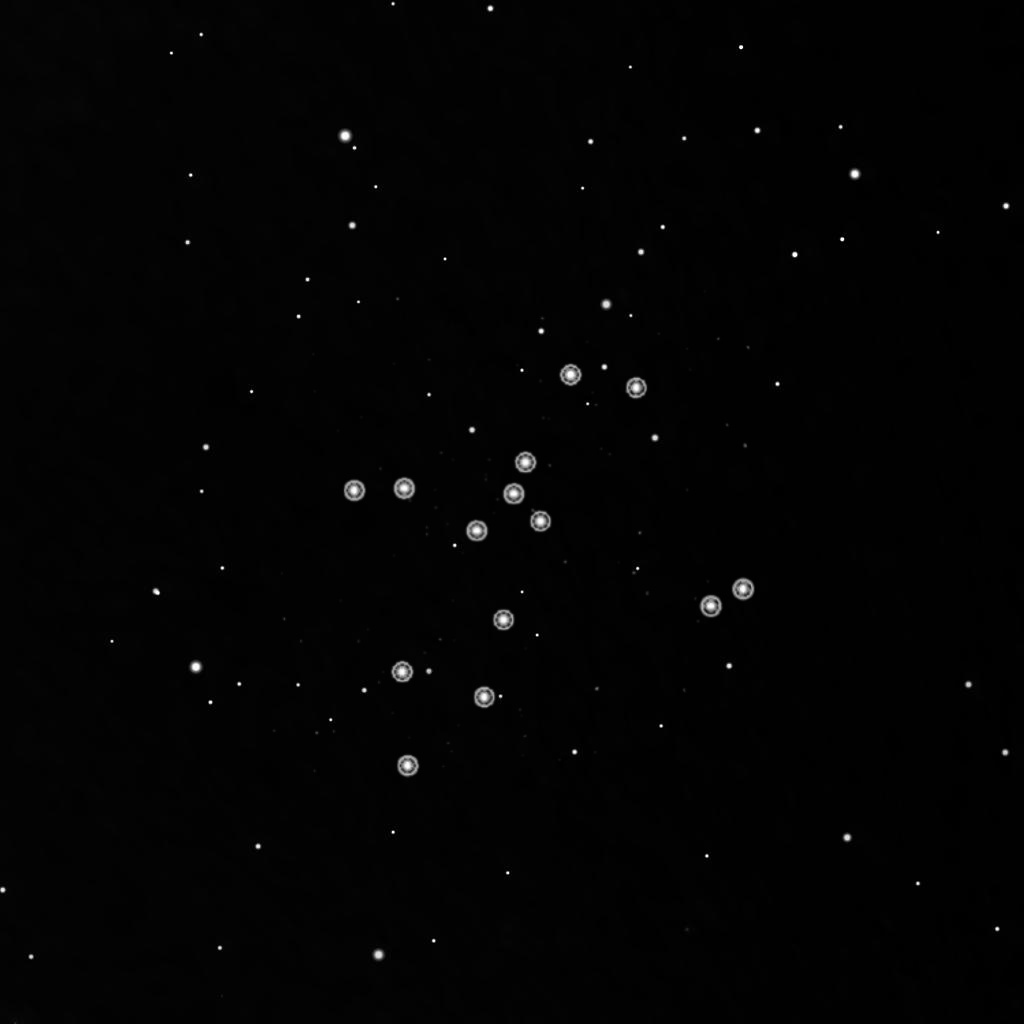canis_major: (458, 355, 652, 552)
